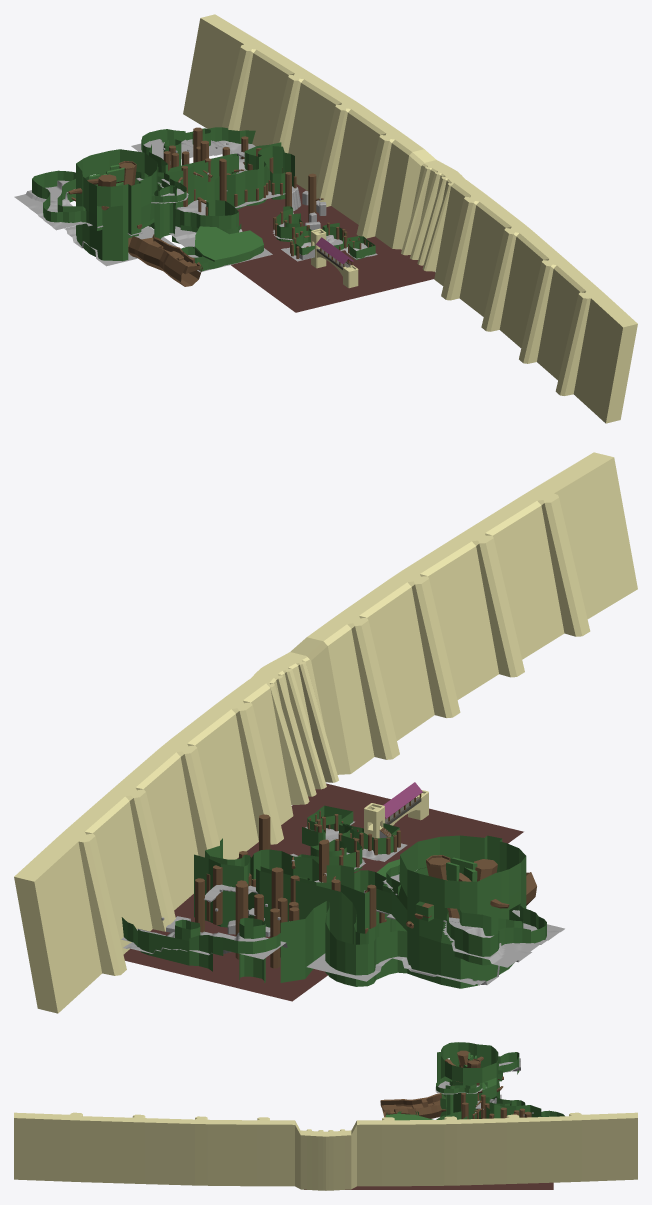
The model's file is ForesLevelV2.fbx.
3 views of the same model, one above another, from view 1: azimuth 30°, elevation 25°; view 2: azimuth 150°, elevation 25°; view 3: azimuth 270°, elevation 25° (orthographic). The views are drawn at different scales.
Visible parts, largest first — view 1: Dam, LavaFloor, MeshWall6, MeshWall5, FallingTree, MeshWall3, Roof, Ground (×2), MeshWall8, MeshWall14, MeshWall11, Ground93 (+4 smaller); view 2: Dam, MeshWall6, LavaFloor, MeshWall5, MeshWall11, MeshWall8, MeshWall3, Ground93, MeshWall, MeshWall1, MeshWall12, MeshWall7 (+1 smaller); view 3: Dam, MeshWall6, FallingTree, LavaFloor, MeshWall8, MeshWall9, MeshWall5, MeshWall10, Tree12, Roof.
Boxes of the visible parts, x1=… form: Dam: x1=183, y1=14, x2=637, y2=423; LavaFloor: x1=231, y1=184, x2=435, y2=312; MeshWall6: x1=76, y1=144, x2=172, y2=261; MeshWall5: x1=152, y1=142, x2=294, y2=209; FallingTree: x1=128, y1=234, x2=202, y2=286; MeshWall3: x1=206, y1=161, x2=285, y2=209; Roof: x1=194, y1=226, x2=263, y2=261; Ground (×2): x1=64, y1=139, x2=255, y2=266; MeshWall8: x1=32, y1=170, x2=106, y2=223; MeshWall14: x1=172, y1=200, x2=238, y2=243; MeshWall11: x1=141, y1=127, x2=255, y2=155; Ground93: x1=14, y1=180, x2=87, y2=230; Dam: x1=14, y1=452, x2=637, y2=1013; MeshWall6: x1=280, y1=835, x2=526, y2=988; LavaFloor: x1=123, y1=783, x2=523, y2=1001; MeshWall5: x1=194, y1=838, x2=391, y2=939; MeshWall11: x1=121, y1=917, x2=280, y2=971; MeshWall8: x1=415, y1=902, x2=546, y2=965; MeshWall3: x1=250, y1=849, x2=354, y2=889; Ground93: x1=443, y1=921, x2=564, y2=967; MeshWall: x1=298, y1=823, x2=399, y2=871; MeshWall1: x1=302, y1=805, x2=363, y2=846; MeshWall12: x1=239, y1=918, x2=265, y2=982; MeshWall7: x1=459, y1=909, x2=523, y2=935; Dam: x1=14, y1=1112, x2=637, y2=1190; MeshWall6: x1=437, y1=1042, x2=541, y2=1118; FallingTree: x1=380, y1=1093, x2=446, y2=1118; LavaFloor: x1=304, y1=1182, x2=553, y2=1189; MeshWall8: x1=458, y1=1052, x2=519, y2=1081; MeshWall9: x1=445, y1=1080, x2=476, y2=1115; MeshWall5: x1=465, y1=1093, x2=494, y2=1119; MeshWall10: x1=436, y1=1076, x2=487, y2=1093; Tree12: x1=457, y1=1050, x2=480, y2=1100; Roof: x1=385, y1=1113, x2=433, y2=1120.
Size of the model in its own units: 213 by 69.1 by 500.
